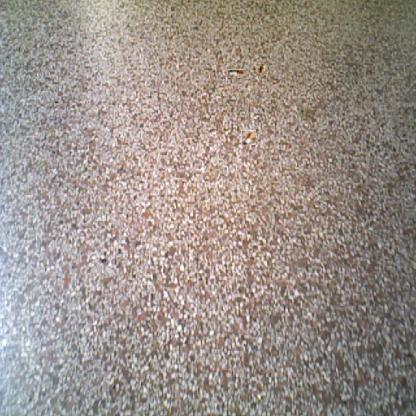dirty: (241, 130, 256, 145), (228, 69, 246, 78), (258, 64, 268, 74)
